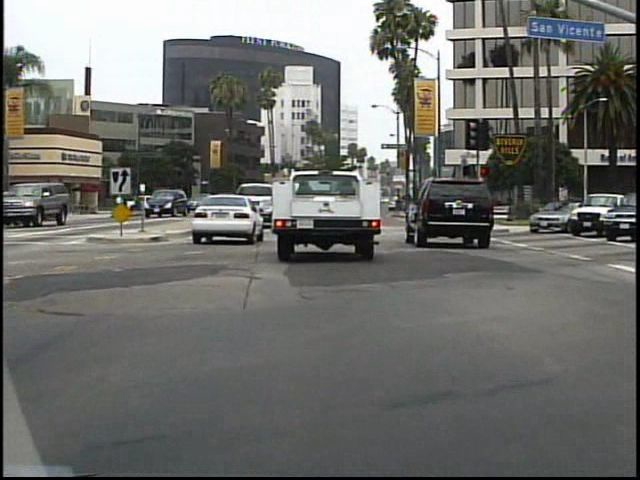person: (110, 189, 129, 223)
